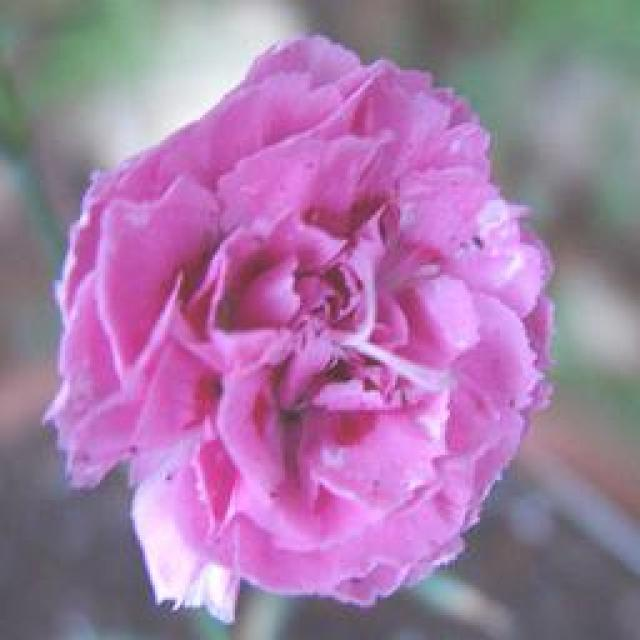carnation: (39, 22, 604, 628)
